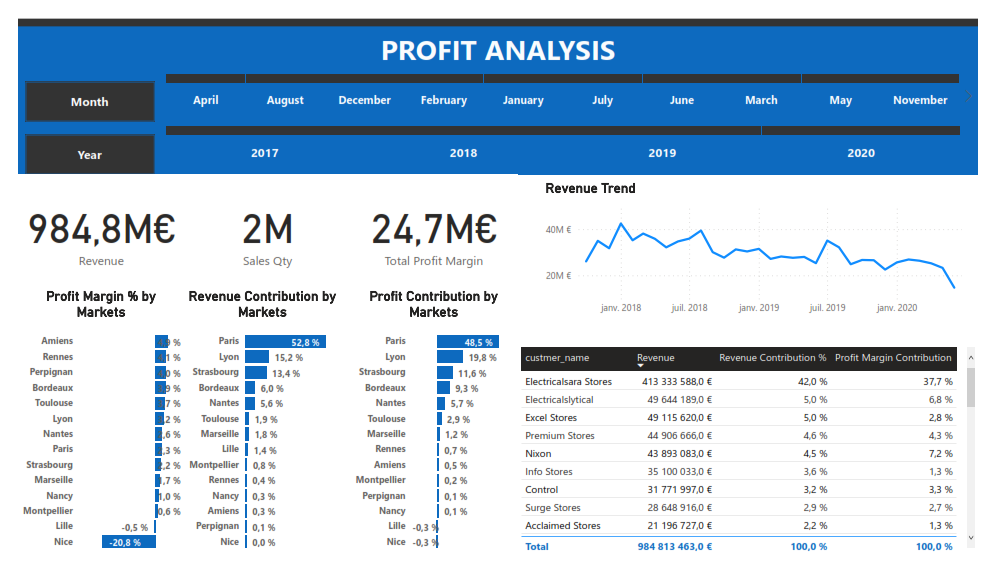

This screenshot's page, from the dashboard's own definition file:
{"tool":"powerbi","page":{"name":"Profit Analysis","canvas":[1280,720],"ordinal":1},"visuals":[{"type":"textbox","box":[0,11.7,1280,196.7],"z":0},{"type":"card","fields":{"Values":["BaseMesure.Sales Qty"]},"box":[221.7,208.3,221.7,151.7],"z":1000},{"type":"barChart","title":"Profit Margin % by Markets","fields":{"Category":["sales markets.markets_name"],"Y":["BaseMesure.Profit Margin %"]},"box":[0,360,221.7,360],"z":2000},{"type":"barChart","title":"Revenue Contribution by Markets","fields":{"Category":["sales markets.markets_name"],"Y":["BaseMesure.Revenue Contribution %"]},"box":[221.7,360,208.3,360],"z":3000},{"type":"slicer","fields":{"Values":["sales date.year"]},"box":[171.7,138.3,1108.3,70],"z":4000},{"type":"slicer","fields":{"Values":["sales date.month_name"]},"box":[171.7,68.3,1108.3,70],"z":5000},{"type":"shape","box":[0,0,1280,11.7],"z":6000},{"type":"shape","box":[10,85,171.7,53.3],"z":7000},{"type":"shape","box":[10,155,171.7,53.3],"z":8000},{"type":"tableEx","title":"Revenue by Costumers","fields":{"Values":["sales customers.custmer_name","BaseMesure.Revenue","BaseMesure.Revenue Contribution %","BaseMesure.Profit Margin Contribution"]},"box":[665,435,615,285],"z":9000},{"type":"lineChart","title":"Revenue Trend","fields":{"Y":["BaseMesure.Revenue"],"Category":["sales date.cy_date"]},"box":[698.3,216.7,581.7,188.3],"z":11000},{"type":"card","fields":{"Values":["BaseMesure.Total Profit Margin"]},"box":[443.3,208.3,221.7,151.7],"z":12000},{"type":"card","fields":{"Values":["BaseMesure.Revenue"]},"box":[0,208.3,221.7,151.7],"z":13000},{"type":"barChart","title":"Profit Contribution by Markets","fields":{"Category":["sales markets.markets_name"],"Y":["BaseMesure.Profit Margin Contribution"]},"box":[443.3,360,221.7,360],"z":14000}]}

Visuals, with their boxes in screenshot pixels (x1, y1, x2, y2), scaled from the page's 1280x720 canvas onto the 996x576 screenshot:
textbox: <bbox>0, 9, 995, 167</bbox>
card - BaseMesure.Sales Qty: <bbox>173, 167, 345, 288</bbox>
"Profit Margin % by Markets" barChart: <bbox>0, 288, 173, 575</bbox>
"Revenue Contribution by Markets" barChart: <bbox>173, 288, 335, 575</bbox>
slicer - sales date.year: <bbox>134, 111, 995, 167</bbox>
slicer - sales date.month_name: <bbox>134, 55, 995, 111</bbox>
shape: <bbox>0, 0, 995, 9</bbox>
shape: <bbox>8, 68, 141, 111</bbox>
shape: <bbox>8, 124, 141, 167</bbox>
"Revenue by Costumers" tableEx: <bbox>517, 348, 995, 575</bbox>
"Revenue Trend" lineChart: <bbox>543, 173, 995, 324</bbox>
card - BaseMesure.Total Profit Margin: <bbox>345, 167, 517, 288</bbox>
card - BaseMesure.Revenue: <bbox>0, 167, 173, 288</bbox>
"Profit Contribution by Markets" barChart: <bbox>345, 288, 517, 575</bbox>
